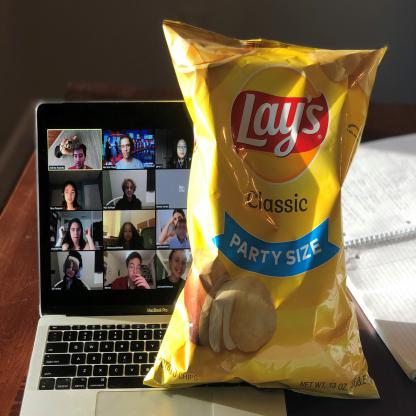potatochip: (140, 10, 392, 408)
